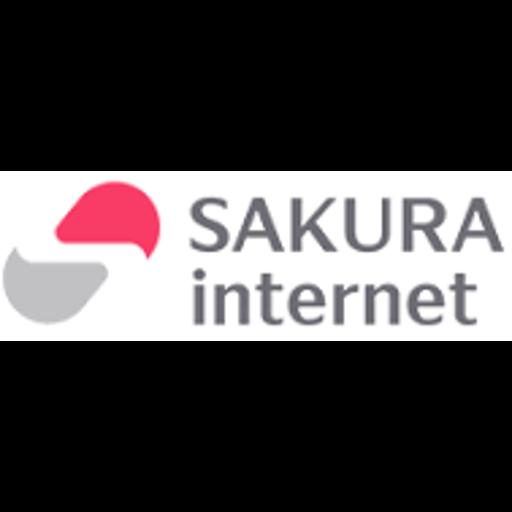Sakura Internet: (0, 171, 512, 341)
